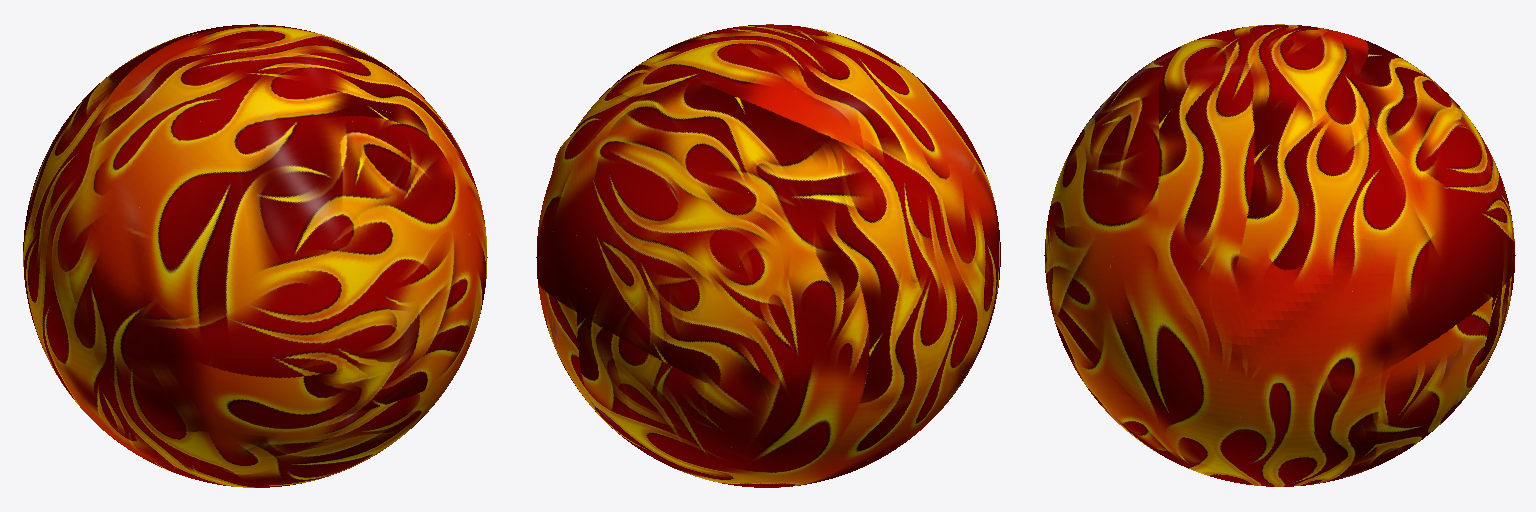
The picture shows the model from 3 angles: view 1: azimuth 30°, elevation 25°; view 2: azimuth 150°, elevation 25°; view 3: azimuth 270°, elevation 25°; orthographic projection.
Bounding box in the file's own units: 0.9852 × 0.9818 × 1.
1 materials, 1 textured.